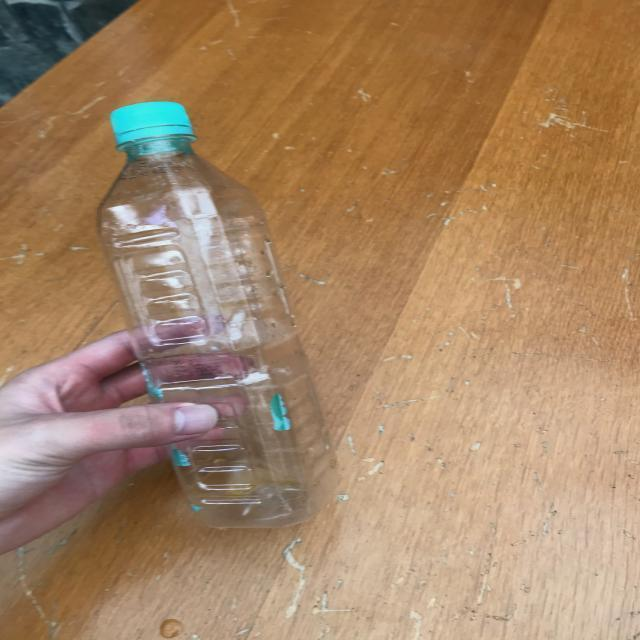plastic_bottle: (97, 101, 341, 528)
